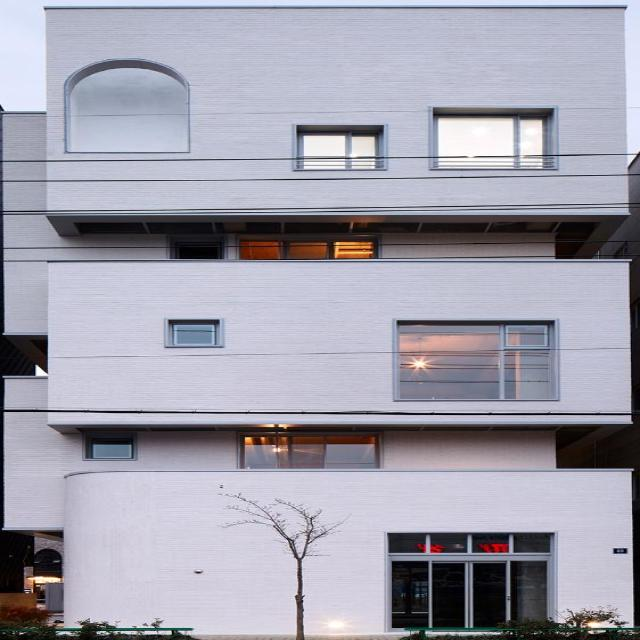door: (395, 562, 548, 630)
window: (401, 325, 559, 401), (442, 117, 550, 169), (245, 432, 379, 468), (388, 531, 560, 554), (240, 240, 376, 258), (305, 134, 378, 166), (89, 430, 138, 459), (177, 326, 219, 344)
